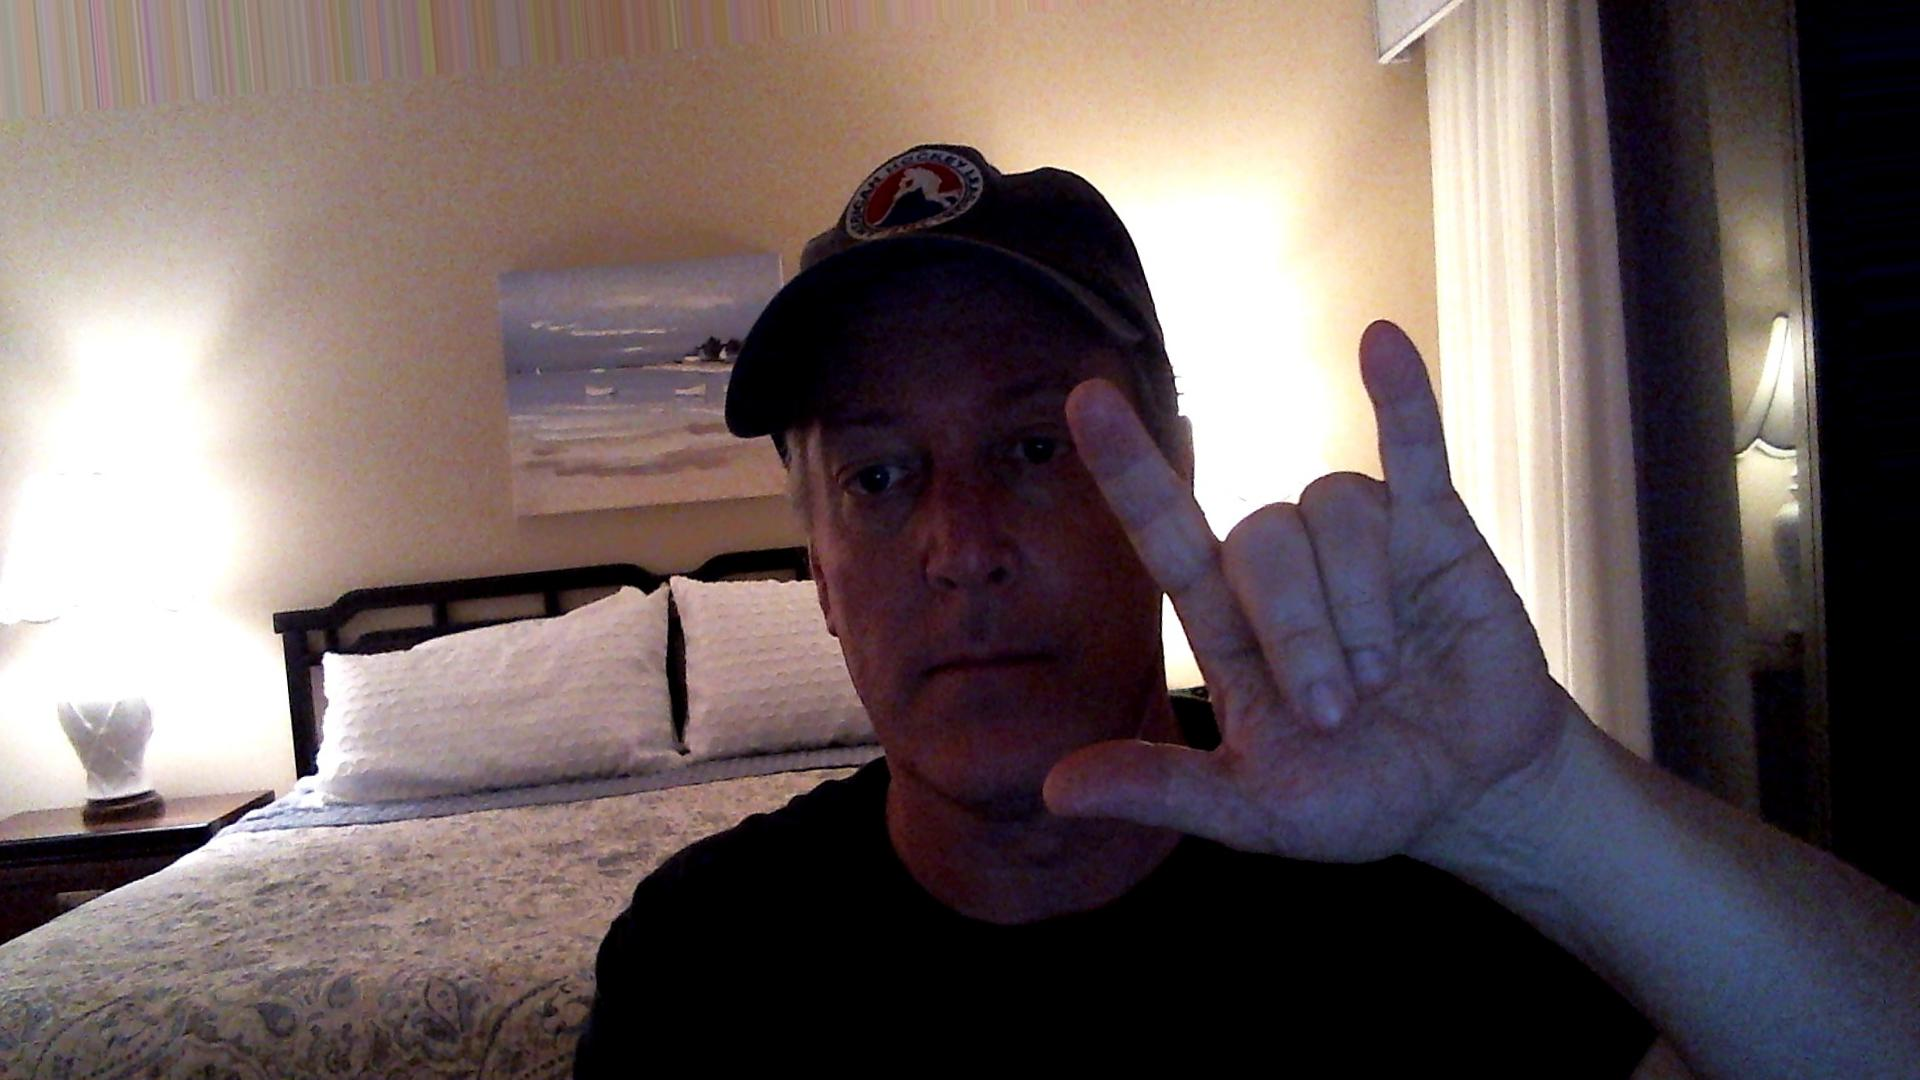I Love You: (1015, 305, 1605, 890)
